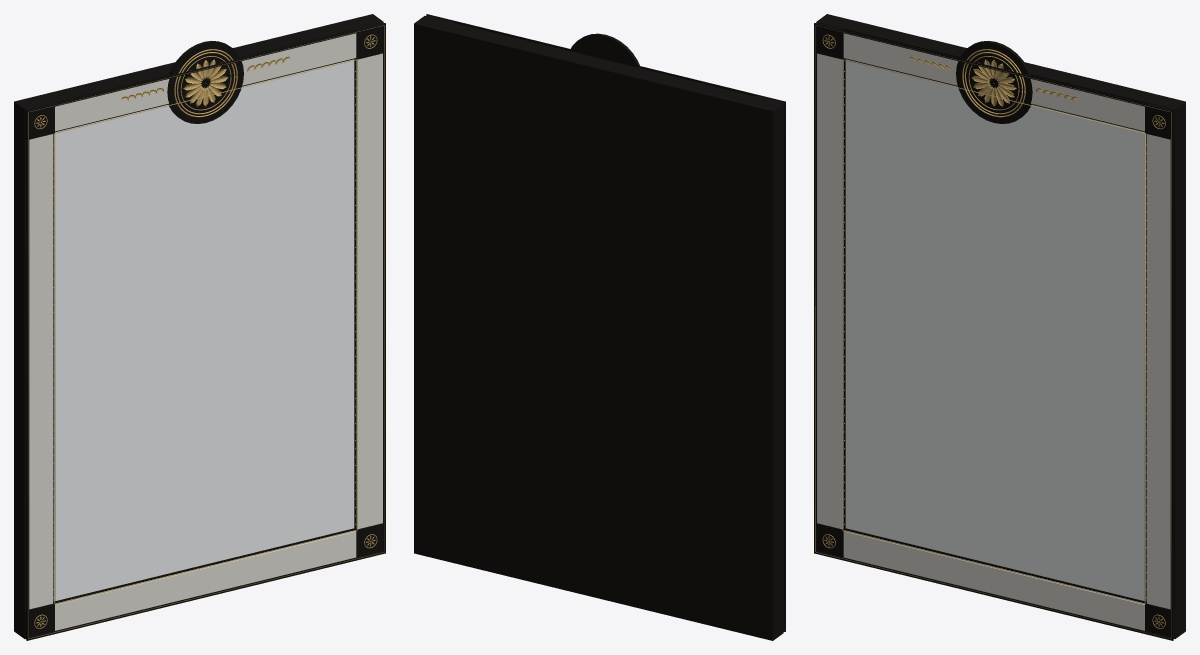
3 views of the same model, side by side, from view 1: azimuth 30°, elevation 25°; view 2: azimuth 150°, elevation 25°; view 3: azimuth 330°, elevation 25° (orthographic).
Visible parts, largest first — view 1: Wellington crested mirror | consoles-16 web batch; view 2: Wellington crested mirror | consoles-16 web batch; view 3: Wellington crested mirror | consoles-16 web batch.
Part boxes in pixels (x1,y1,x2,y2): Wellington crested mirror | consoles-16 web batch: (14,14,385,640); Wellington crested mirror | consoles-16 web batch: (414,14,785,640); Wellington crested mirror | consoles-16 web batch: (814,14,1185,640).
Size of the model in its own units: 1.12 by 1.65 by 0.0705.
